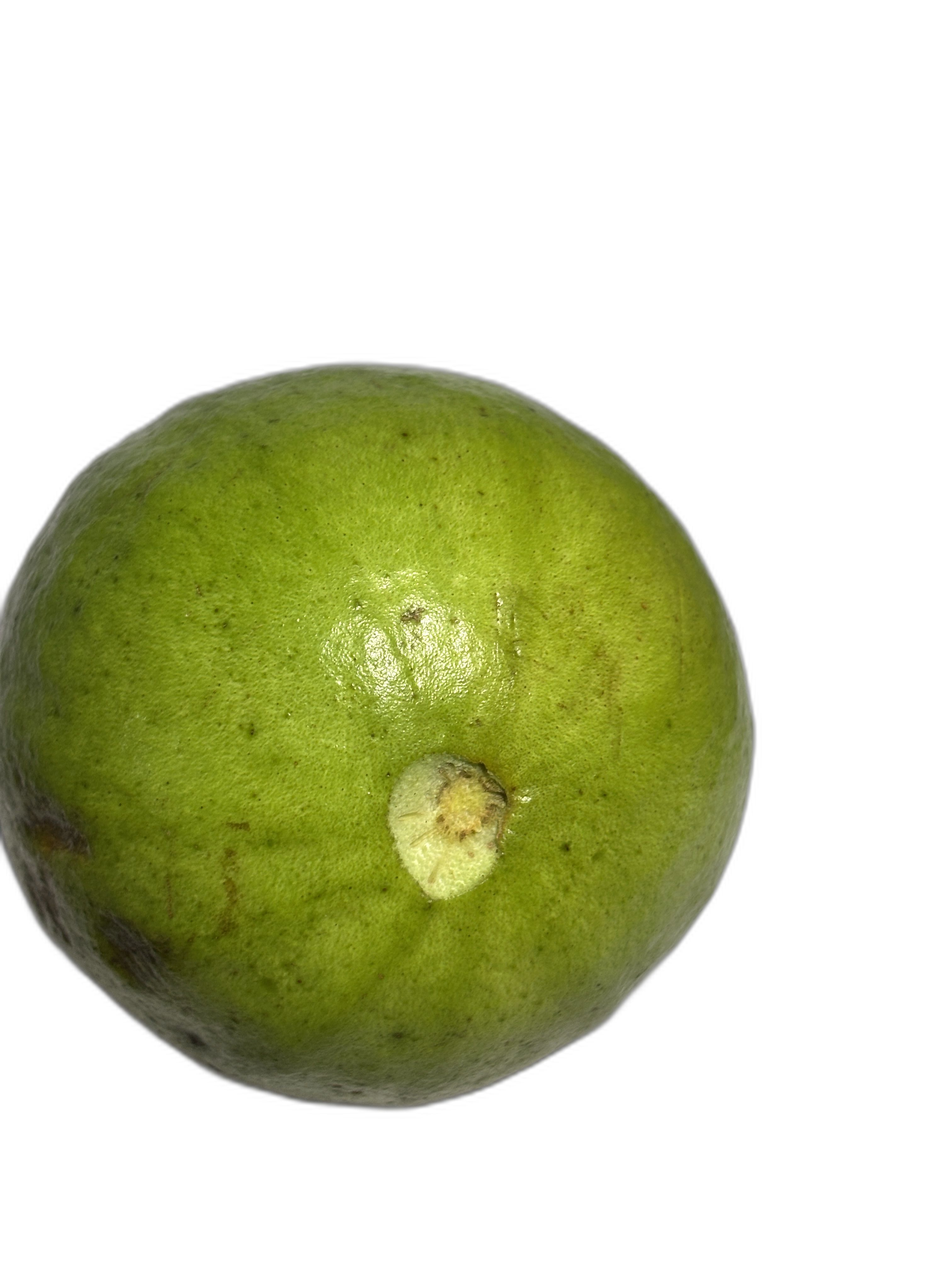guava: (139, 167, 794, 1241)
